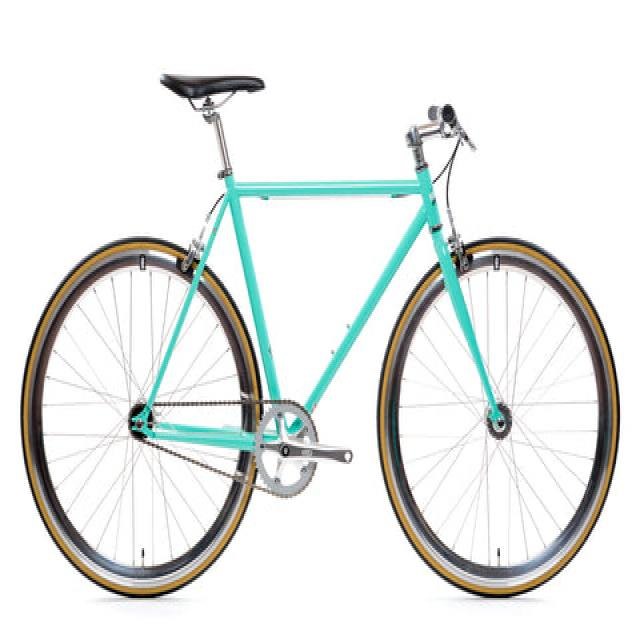bicycle: (20, 47, 632, 624)
